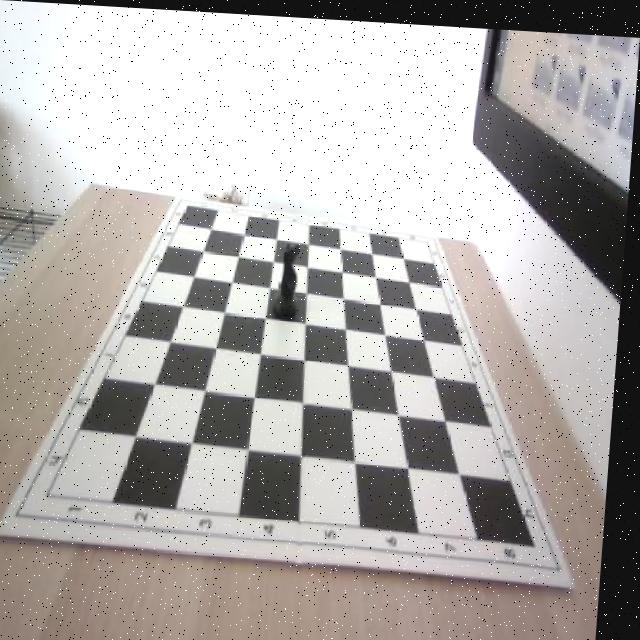black-king: (277, 237, 307, 315)
